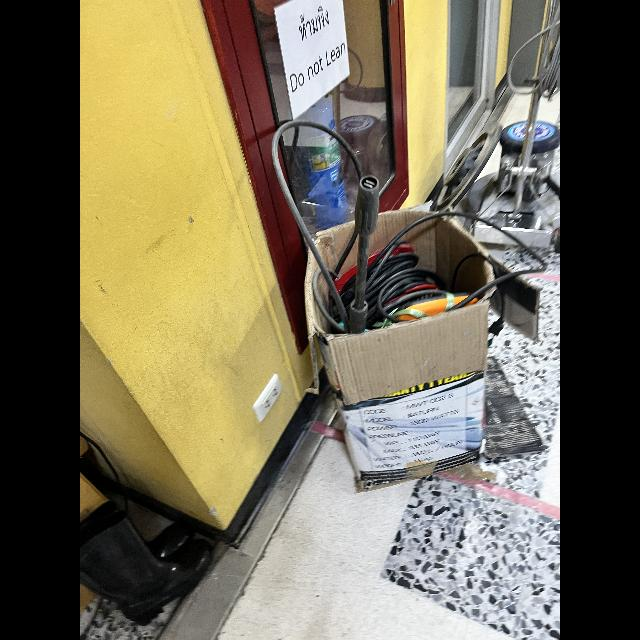cardboard_box: (296, 204, 510, 500)
